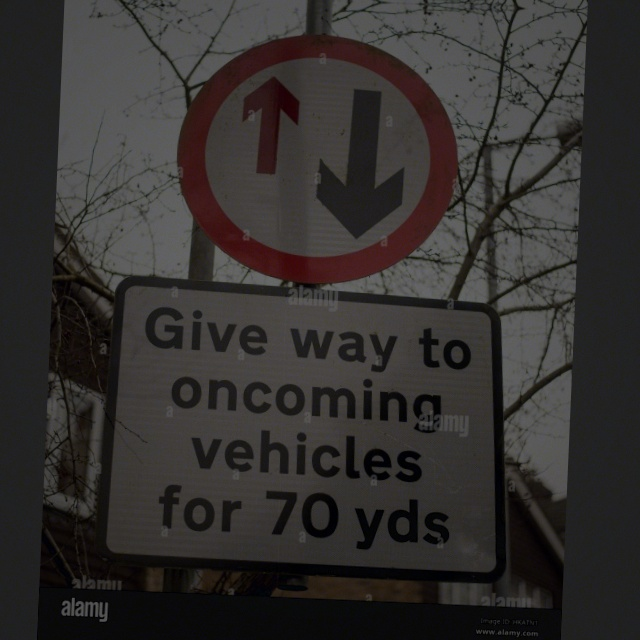Priority_for_Oncoming_Traffic: (173, 28, 465, 286)
